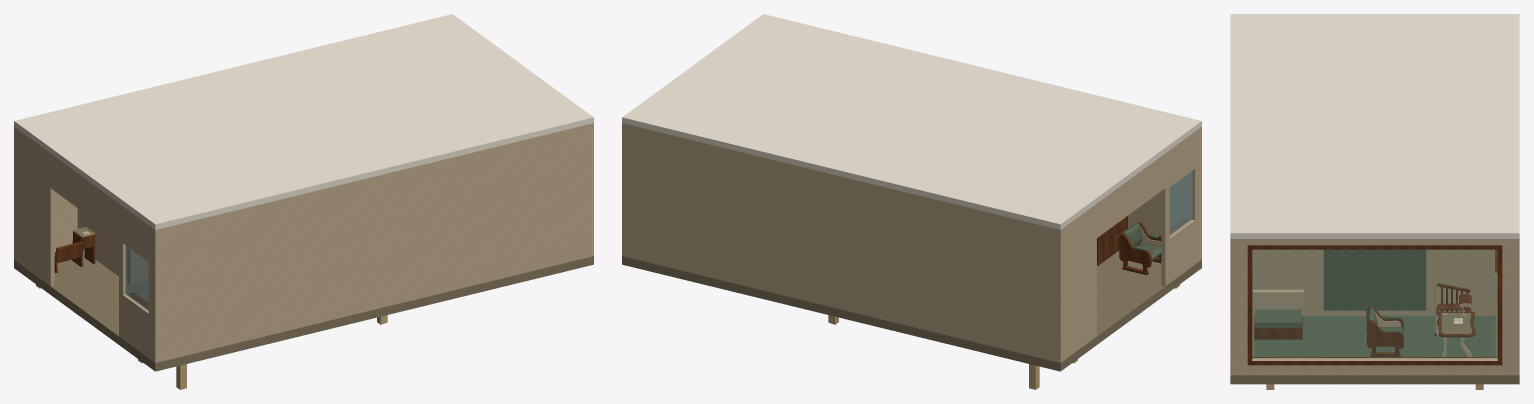
Rendered from NG482_WarmInterior_r001.glb.
3 views of the same model, side by side, from view 1: azimuth 30°, elevation 25°; view 2: azimuth 150°, elevation 25°; view 3: azimuth 270°, elevation 25° (orthographic). The views are drawn at different scales.
Visible parts, largest first — view 1: NG482_RuntimeBatch_001, NG482_RoomFloor, NG482_ScreenedStreetGlass, NG482_RuntimeBatch_013; view 2: NG482_RuntimeBatch_001, NG482_RoomFloor, NG482_ScreenedStreetGlass, NG482_RuntimeBatch_049, NG482_RuntimeBatch_002; view 3: NG482_RuntimeBatch_001, NGP_482_PrivateViewPane, NG482_RoomFloor, NGW_482_OutlookFloorInlay, NG482_RuntimeBatch_006, NGP_482_Frame_Sill, NGP_482_Frame_Head, NGP_482_ViewSeat_Back, NG482_RuntimeBatch_028, NGP_482_ViewSeat_Cushion, NG482_RuntimeBatch_007, NGP_482_Frame_Left (+4 smaller).
Part boxes in pixels (x1,y1,x2,y2): NG482_RuntimeBatch_001: [14, 14, 593, 362]; NG482_RoomFloor: [14, 250, 593, 371]; NG482_ScreenedStreetGlass: [125, 245, 148, 310]; NG482_RuntimeBatch_013: [54, 231, 95, 271]; NG482_RuntimeBatch_001: [622, 14, 1201, 362]; NG482_RoomFloor: [622, 251, 1201, 371]; NG482_ScreenedStreetGlass: [1169, 171, 1192, 235]; NG482_RuntimeBatch_049: [1119, 221, 1161, 274]; NG482_RuntimeBatch_002: [1097, 216, 1190, 265]; NG482_RuntimeBatch_001: [1230, 14, 1519, 375]; NGP_482_PrivateViewPane: [1252, 250, 1497, 358]; NG482_RoomFloor: [1230, 249, 1519, 384]; NGW_482_OutlookFloorInlay: [1254, 315, 1495, 356]; NG482_RuntimeBatch_006: [1323, 249, 1426, 310]; NGP_482_Frame_Sill: [1247, 357, 1502, 365]; NGP_482_Frame_Head: [1247, 245, 1502, 249]; NGP_482_ViewSeat_Back: [1253, 289, 1303, 315]; NG482_RuntimeBatch_028: [1366, 306, 1403, 355]; NGP_482_ViewSeat_Cushion: [1255, 309, 1301, 328]; NG482_RuntimeBatch_007: [1436, 283, 1475, 337]; NGP_482_Frame_Left: [1497, 249, 1502, 360].
Size of the model in its own units: 12.9 by 5.31 by 7.2.
Materials: 37 (20 with a texture image).
